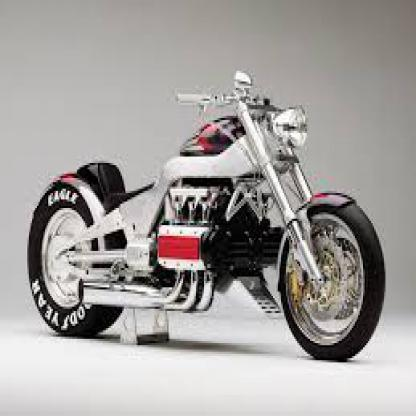Motorcycle: (20, 62, 393, 366)
